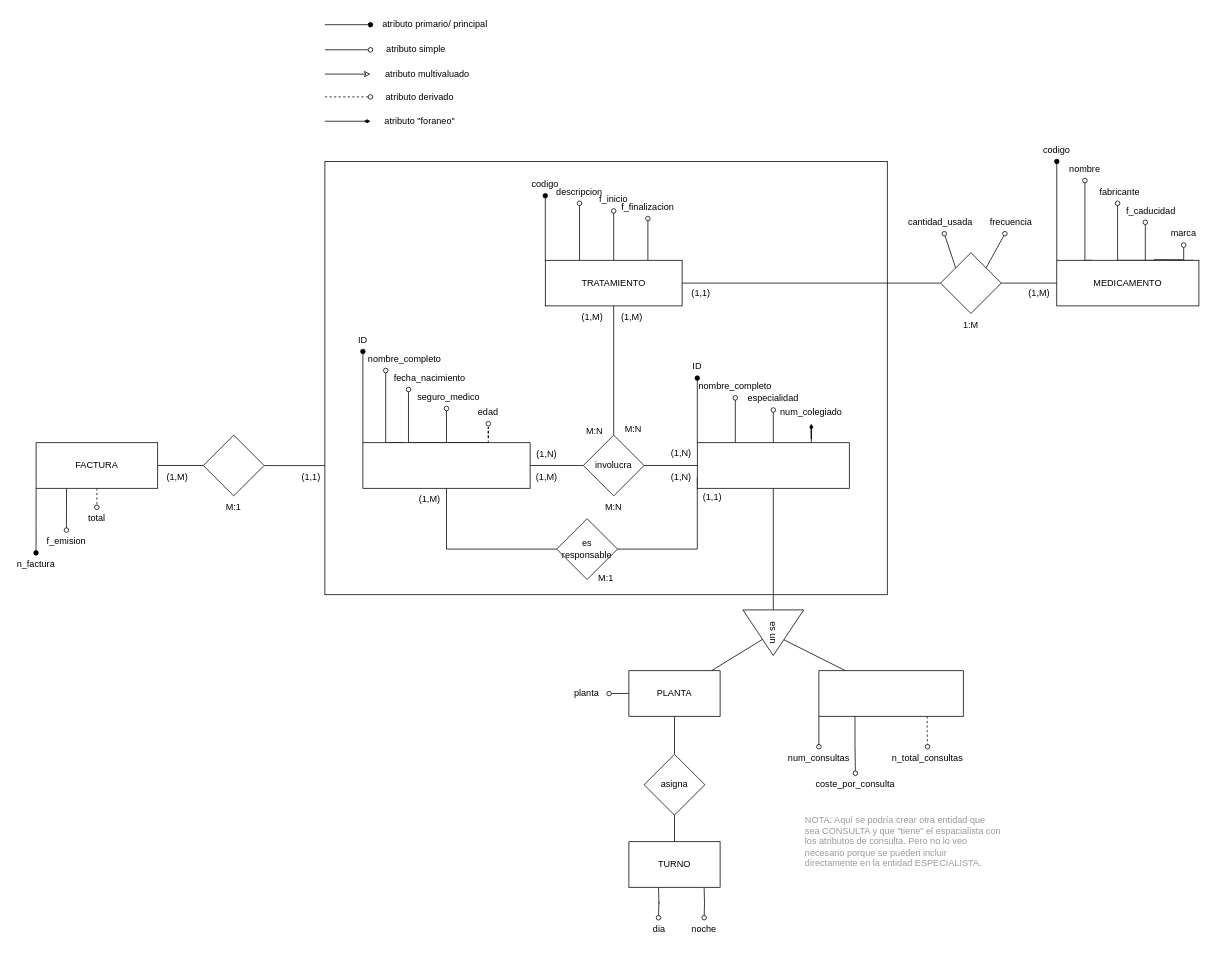
This 1220x953 diagram has some shape labels left out. The centre of each missing label's shape, as x and y in pixels:
asocia: (x=233, y=465)
DOCTOR: (x=773, y=465)
ESPECIALISTA_EXTERNO: (x=890, y=693)
incluye: (x=970, y=283)
PACIENTE: (x=446, y=465)
